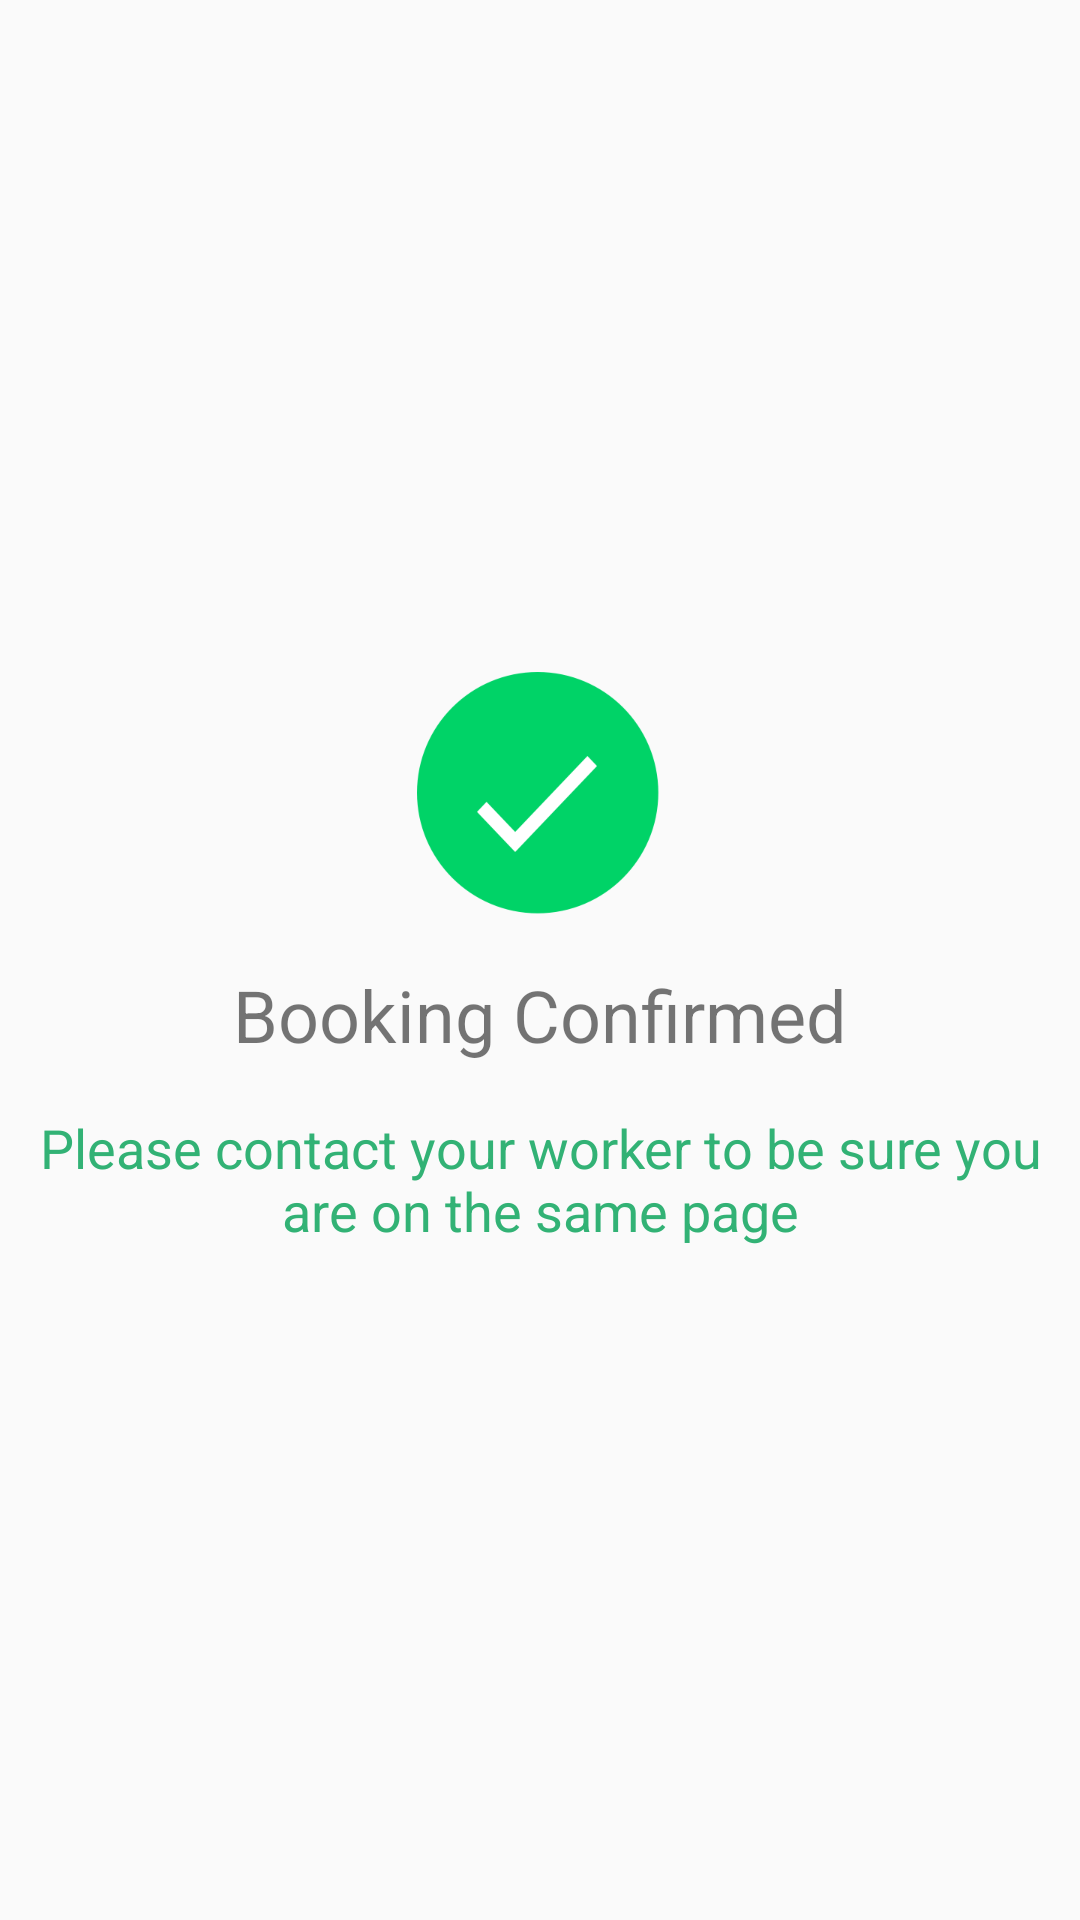

Icons on this 1080w x 1920h Android screen, each with its box as (x1, y1, x2, y2):
check: (417, 672, 659, 914)
